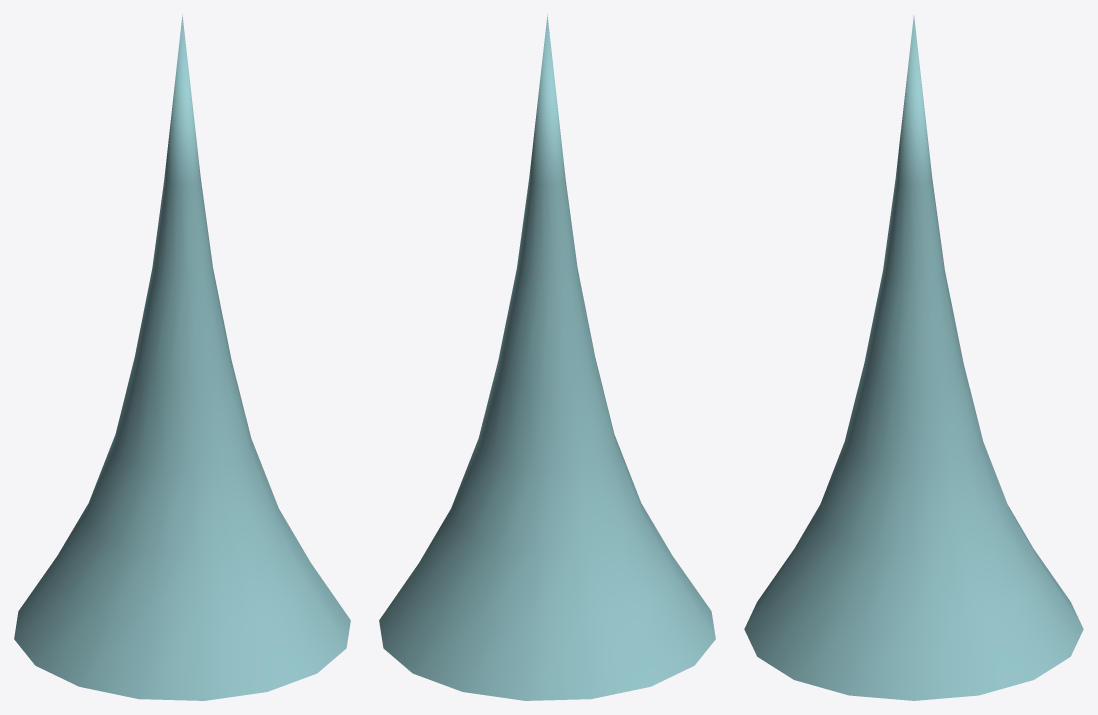
The model's file is Peak_01.FBX.
3 views of the same model, side by side, from view 1: azimuth 30°, elevation 25°; view 2: azimuth 150°, elevation 25°; view 3: azimuth 270°, elevation 25° (orthographic).
Visible parts, largest first — view 1: Peak_01; view 2: Peak_01; view 3: Peak_01.
Boxes of the visible parts, box(x1,y1,x2,y2) form: Peak_01: box(14, 14, 350, 700); Peak_01: box(379, 14, 715, 700); Peak_01: box(744, 15, 1083, 700).
Bounding box in the file's own units: 0.5 × 1 × 0.5.
